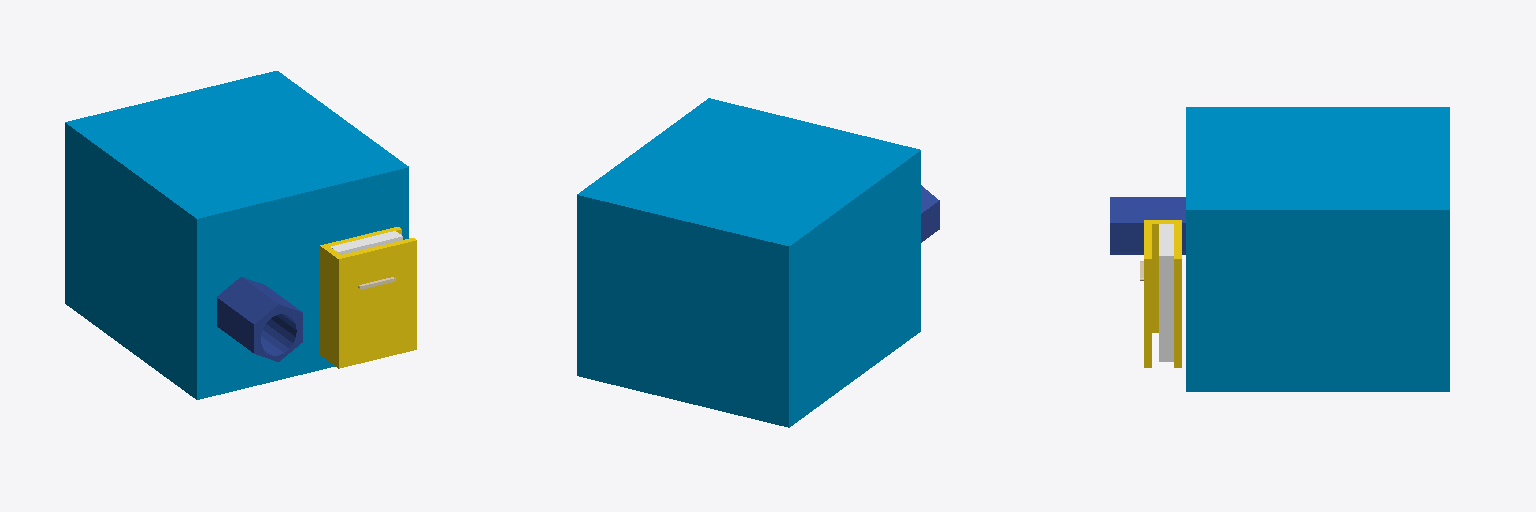
Rendered from tinker.obj.
The picture shows the model from 3 angles: view 1: azimuth 30°, elevation 25°; view 2: azimuth 150°, elevation 25°; view 3: azimuth 270°, elevation 25°; orthographic projection.
Visible parts, largest first — view 1: obj_0; view 2: obj_0; view 3: obj_0.
Boxes of the visible parts, x1,y1,x2,y2 form: obj_0: [65, 71, 416, 399]; obj_0: [577, 98, 939, 427]; obj_0: [1110, 107, 1449, 391].
Bounding box in the file's own units: 65 × 57 × 90.